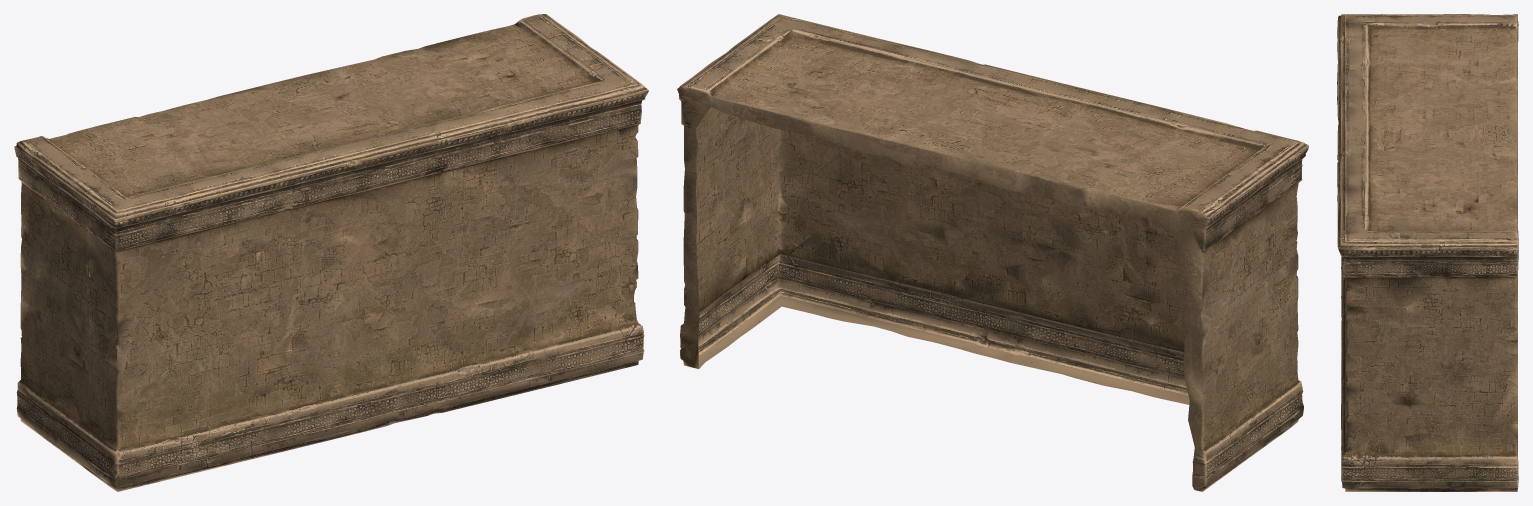
Rendered from desert_block_long.gltf.
3 views of the same model, side by side, from view 1: azimuth 30°, elevation 25°; view 2: azimuth 150°, elevation 25°; view 3: azimuth 270°, elevation 25° (orthographic). The views are drawn at different scales.
Parts seen in each view (by area): view 1: desert_block_long; view 2: desert_block_long; view 3: desert_block_long.
Boxes of the visible parts, box(x1,y1,x2,y2) form: desert_block_long: box(14, 14, 648, 491); desert_block_long: box(677, 14, 1308, 491); desert_block_long: box(1337, 14, 1518, 491).
Bounding box in the file's own units: 40.01 × 20.1 × 13.16.
1 material, 1 textured.
